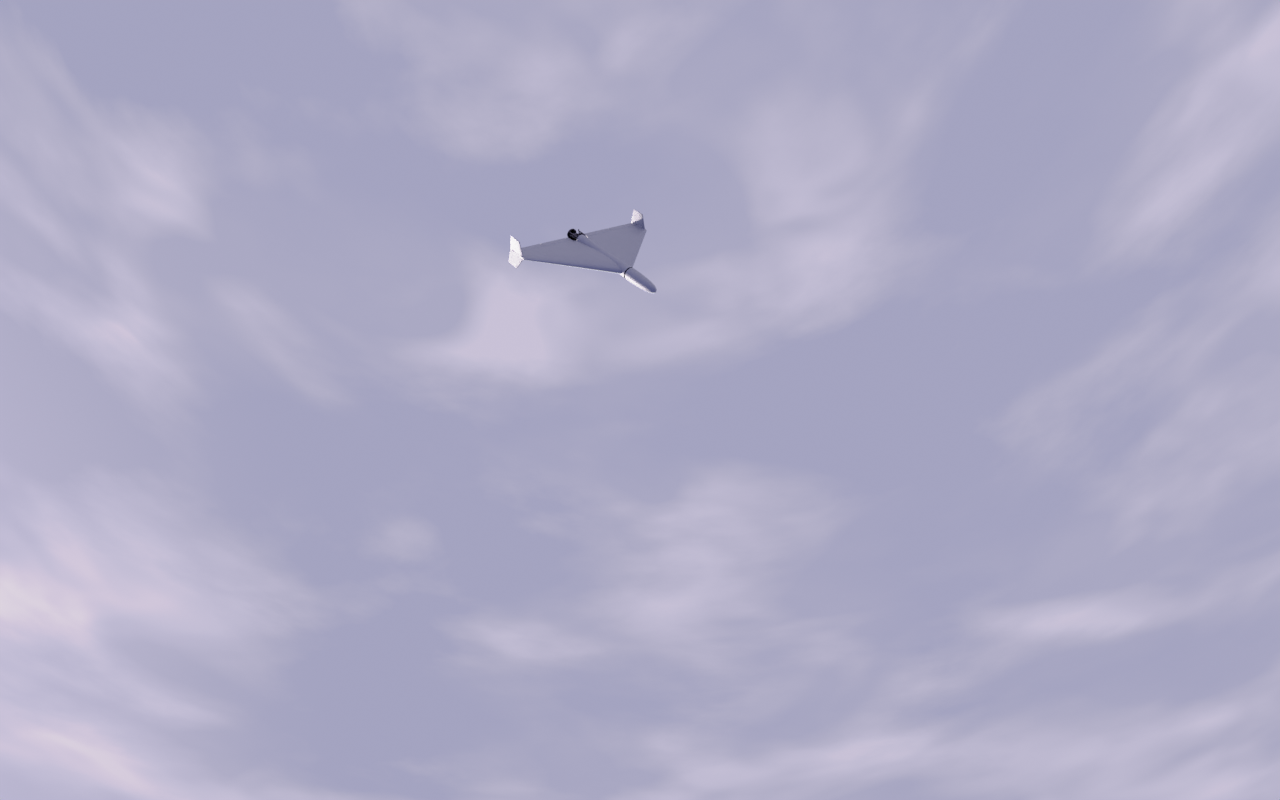shahed: (509, 209, 658, 296)
